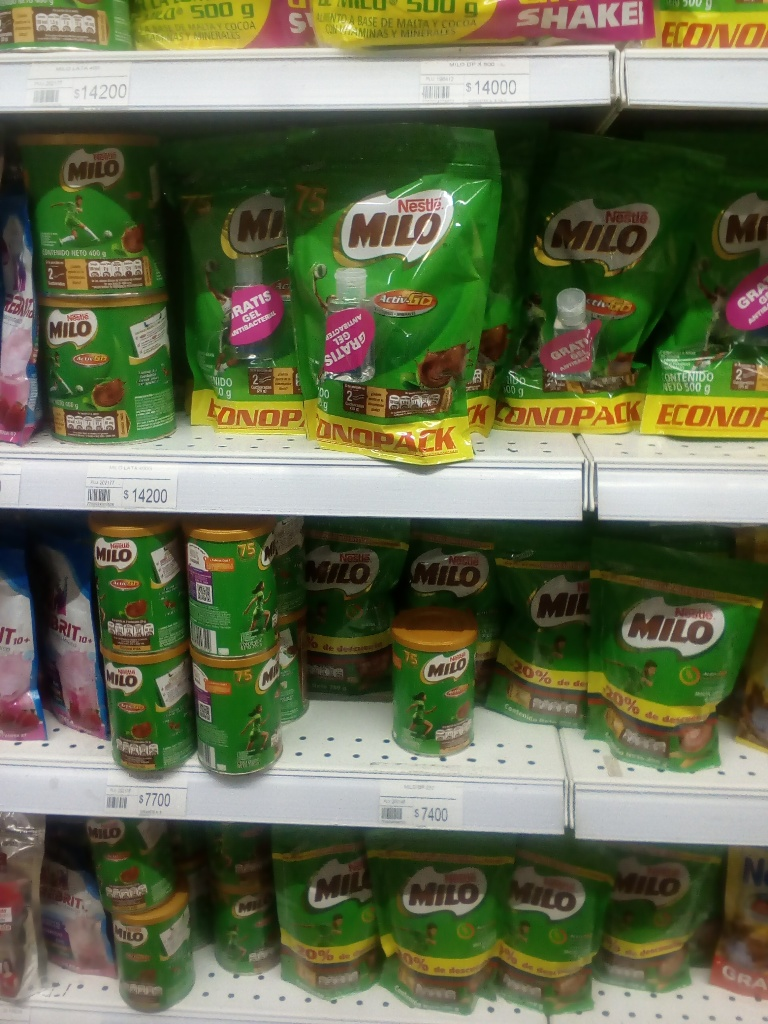COL0170203LAT20000: (87, 510, 182, 663)
COL0170203LAT40000: (30, 125, 166, 295)
